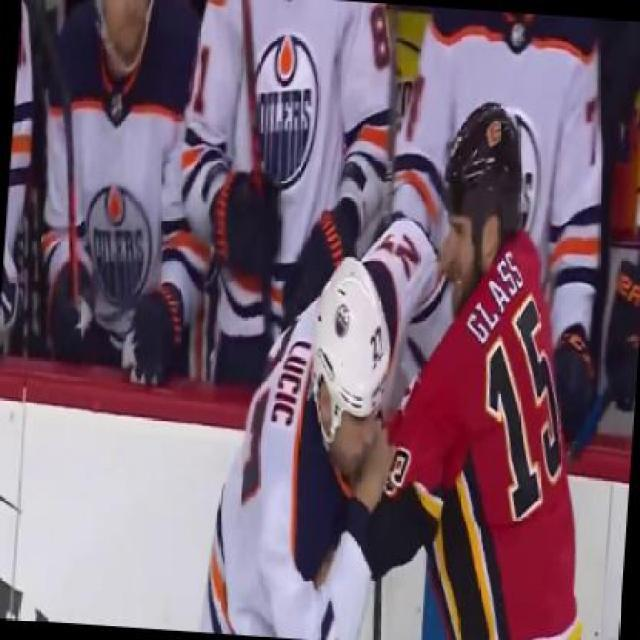fight: (223, 84, 589, 638)
